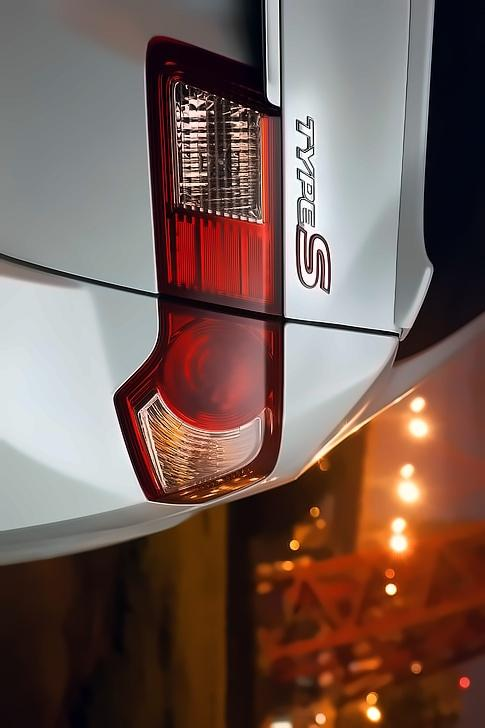Car boot: (0, 0, 448, 350)
Rear bumper: (0, 255, 485, 569)
Rear light - -R-: (100, 26, 305, 515)
